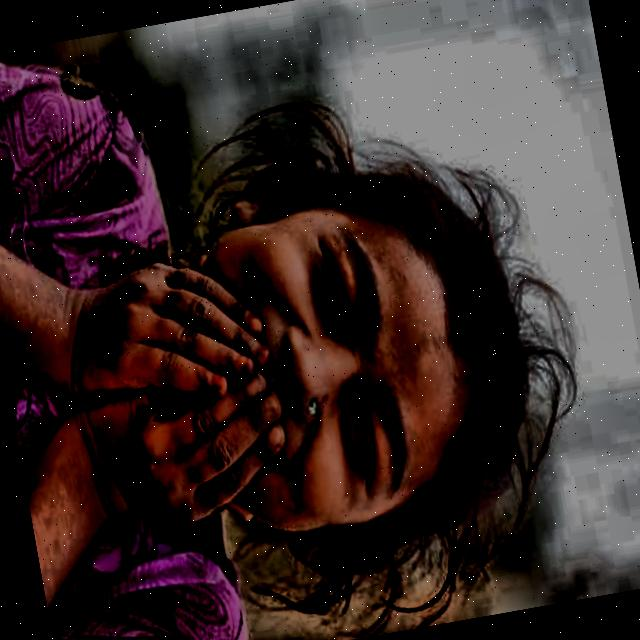happy: (142, 99, 572, 634)
